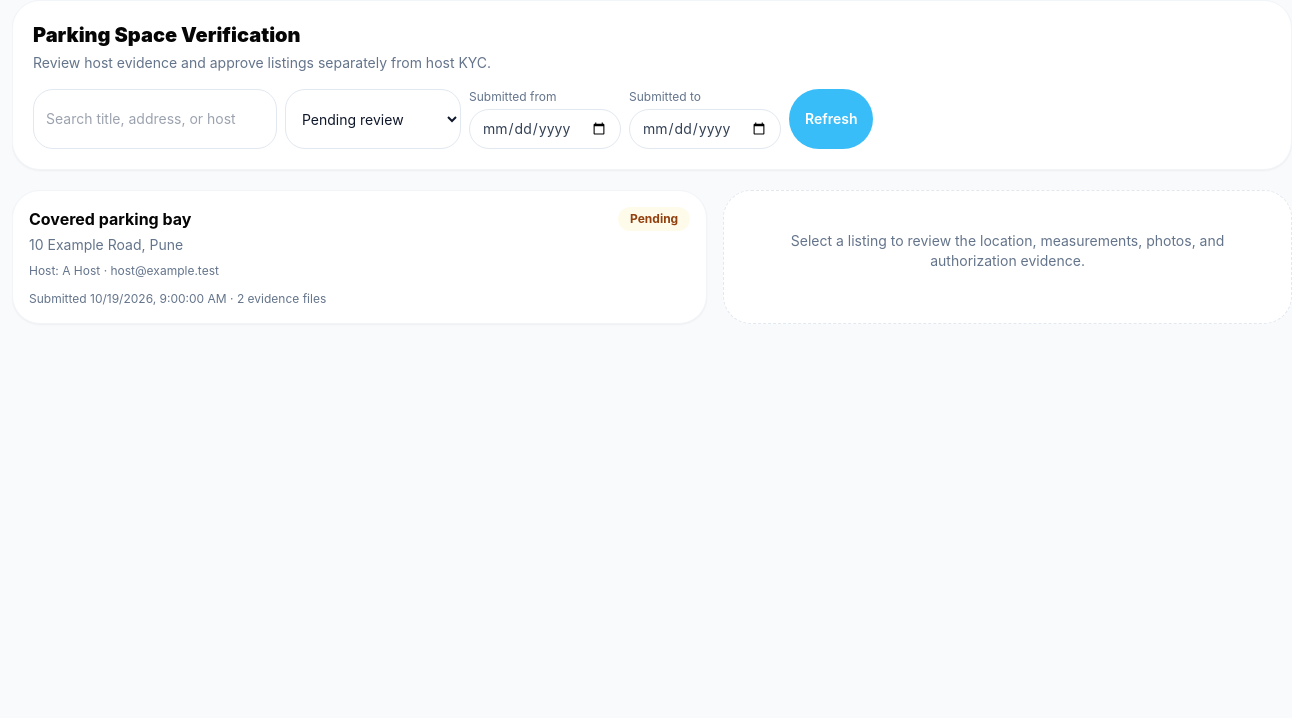
Test case: admin cannot reject or request changes without a reason
Step 1. Click the button "Covered parking bay" → (110, 219), box [12,190,707,324]
(page scrolled)
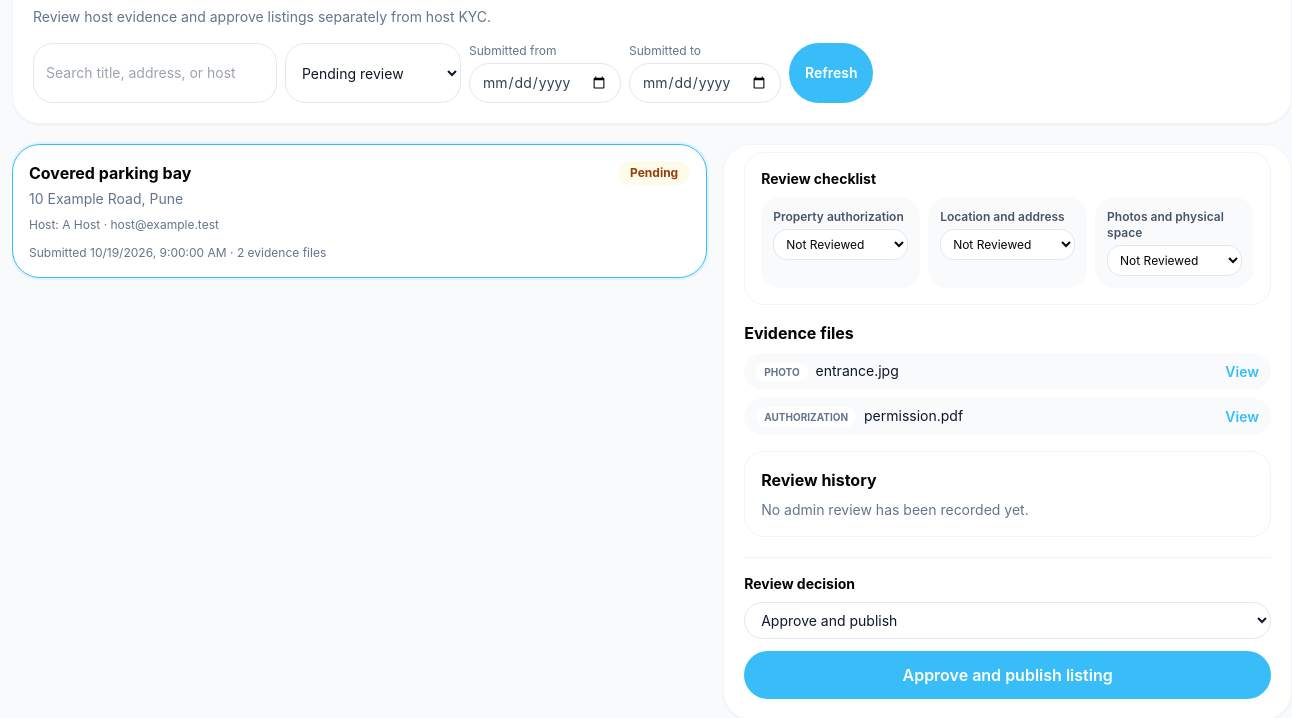
Step 2. Select "Reject listing" in the dropdown labelled "Review decision" → (1008, 620), box [744,602,1271,639]
(page scrolled)
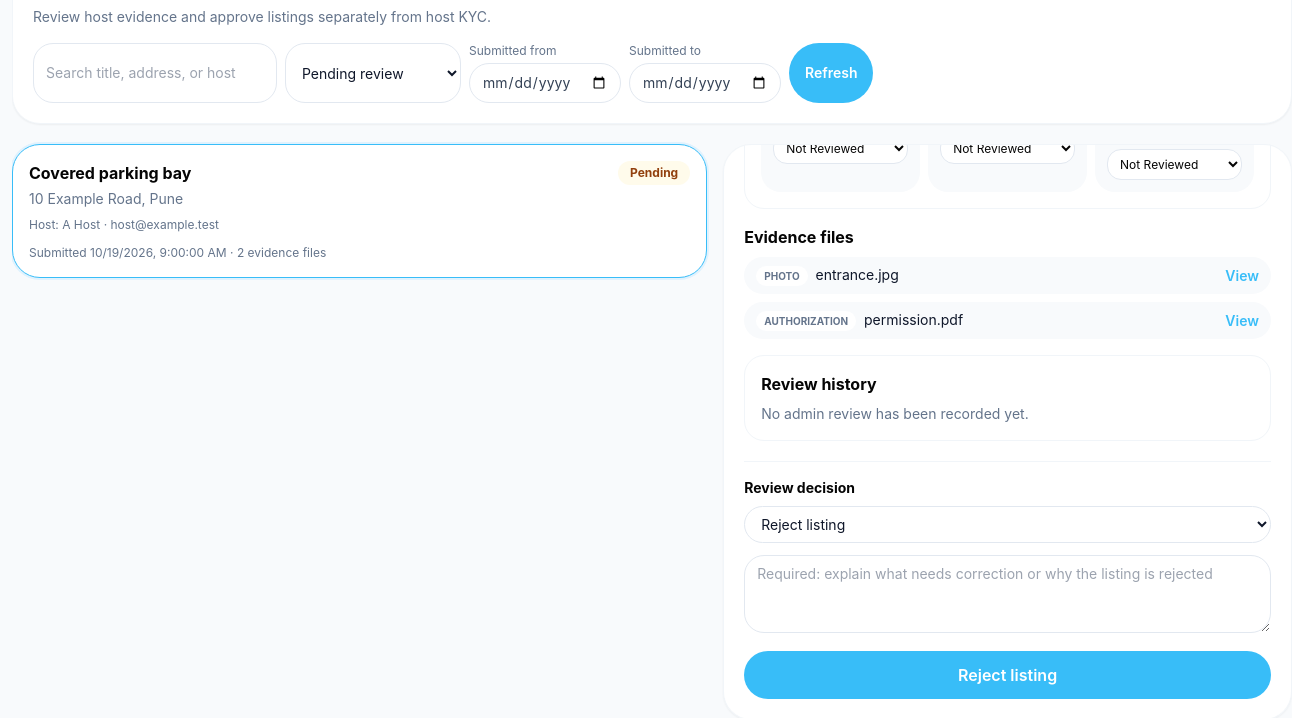
Step 3. Click the button "Reject listing" → (1008, 675), box [744,651,1271,699]
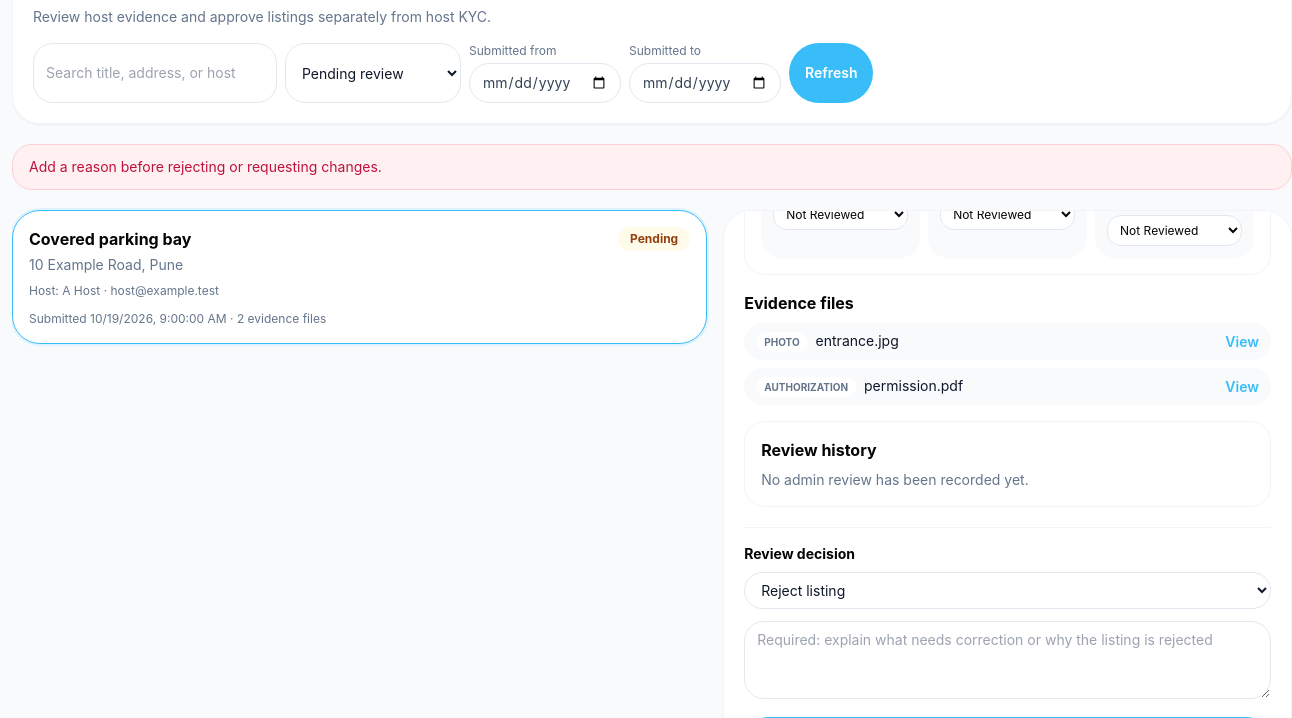
Expected: the message shows "Add a reason", [29,158,382,175]
